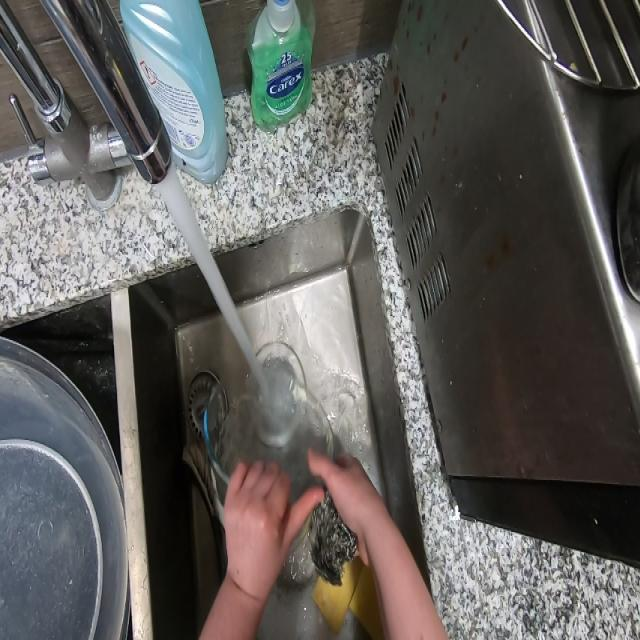left hand: (217, 458, 308, 616)
right hand: (314, 438, 391, 567)
sink: (132, 257, 457, 640)
tap: (0, 0, 163, 213)
